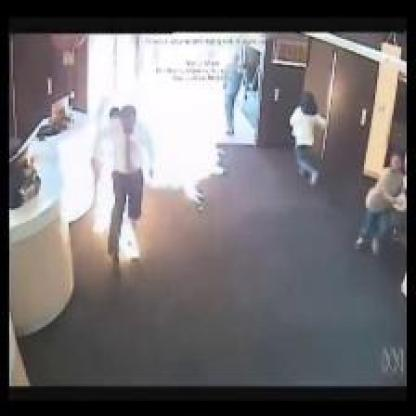fire: (130, 78, 240, 199), (117, 217, 147, 264), (93, 173, 113, 236)
